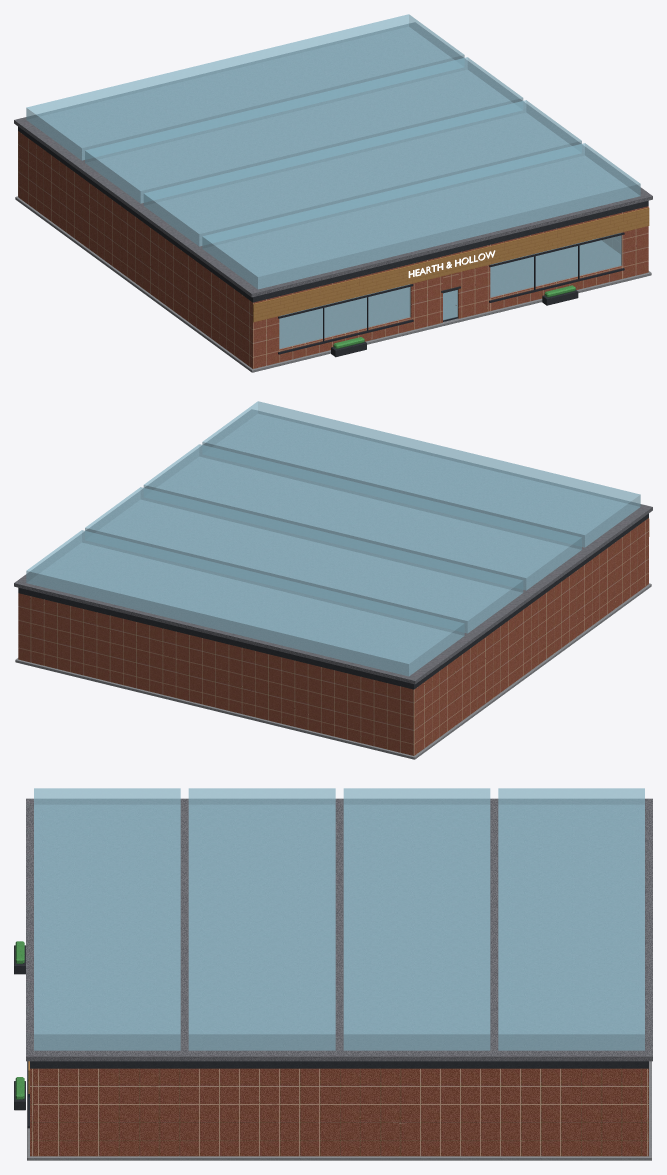
File: exterior.glb
The picture shows the model from 3 angles, top to bottom: view 1: azimuth 30°, elevation 25°; view 2: azimuth 150°, elevation 25°; view 3: azimuth 270°, elevation 25°; orthographic projection. The views are drawn at different scales.
Parts seen in each view (by area): view 1: EX_Roof, EX_Shed0, EX_Shed1, EX_Shed3, EX_Shed2, EX_ShellW_00, EX_Plinth, EX_Fascia, EX_ShellFront_Glass0, EX_ShellFront_Glass2, EX_Band, EX_ShellFront_02 (+5 smaller); view 2: EX_Roof, EX_ShellBack_00, EX_Shed3, EX_Shed2, EX_Shed0, EX_Shed1, EX_ShellW_00, EX_Band, EX_Plinth; view 3: EX_Roof, EX_ShellE_00, EX_Shed1, EX_Shed2, EX_Shed0, EX_Shed3, EX_Band, EX_Plinth.
Part boxes in pixels (x1,y1,x2,y2): EX_Roof: (14, 22, 652, 297); EX_Shed0: (202, 143, 640, 289); EX_Shed1: (143, 100, 581, 246); EX_Shed3: (26, 14, 464, 160); EX_Shed2: (85, 57, 523, 203); EX_ShellW_00: (19, 132, 251, 367); EX_Plinth: (15, 196, 651, 372); EX_Fascia: (253, 207, 649, 322); EX_ShellFront_Glass0: (279, 284, 410, 349); EX_ShellFront_Glass2: (490, 232, 621, 297); EX_Band: (18, 126, 648, 302); EX_ShellFront_02: (457, 245, 490, 318); EX_Roof: (14, 409, 652, 684); EX_ShellBack_00: (18, 593, 415, 755); EX_Shed3: (26, 530, 464, 676); EX_Shed2: (85, 487, 523, 633); EX_Shed0: (202, 401, 640, 547); EX_Shed1: (143, 444, 581, 590); EX_ShellW_00: (415, 519, 647, 754); EX_Band: (18, 513, 648, 689); EX_Plinth: (15, 583, 651, 759); EX_Roof: (26, 798, 652, 1061); EX_ShellE_00: (34, 1068, 644, 1156); EX_Shed1: (188, 788, 335, 1050); EX_Shed2: (343, 788, 490, 1050); EX_Shed0: (34, 788, 180, 1050); EX_Shed3: (498, 788, 644, 1050); EX_Band: (30, 1061, 648, 1068); EX_Plinth: (27, 1061, 651, 1160).
Size of the model in its own units: 30.4 by 6.65 by 31.81.
10 materials, 9 textured.
